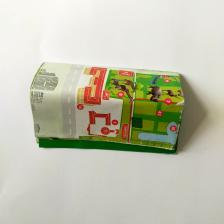Paper: (23, 56, 192, 162)
